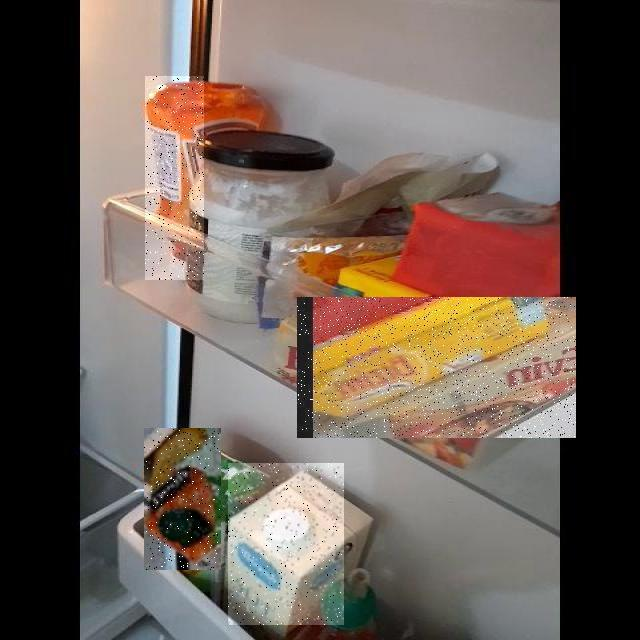Butter: (297, 297, 576, 438)
Juice: (144, 428, 221, 570)
Milk: (228, 463, 344, 625)
Sauce: (145, 76, 204, 280)
